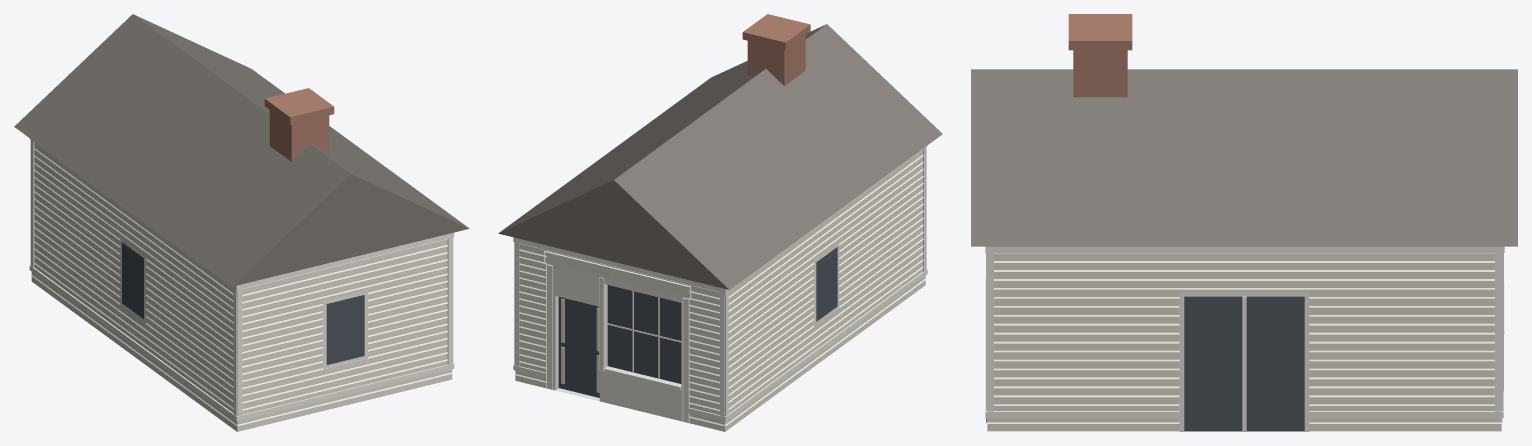
The model's file is recon_1835_south_c1_010__inferred_1835.glb.
3 views of the same model, side by side, from view 1: azimuth 30°, elevation 25°; view 2: azimuth 150°, elevation 25°; view 3: azimuth 270°, elevation 25° (orthographic). The views are drawn at different scales.
Visible parts, largest first — view 1: recon_1835_south_c1_010__inferred_1835; view 2: recon_1835_south_c1_010__inferred_1835; view 3: recon_1835_south_c1_010__inferred_1835.
Boxes of the visible parts, x1,y1,x2,y2 form: recon_1835_south_c1_010__inferred_1835: [14, 14, 469, 431]; recon_1835_south_c1_010__inferred_1835: [498, 14, 942, 431]; recon_1835_south_c1_010__inferred_1835: [971, 14, 1517, 431].
Size of the model in its own units: 5.29 by 5.74 by 8.42.
